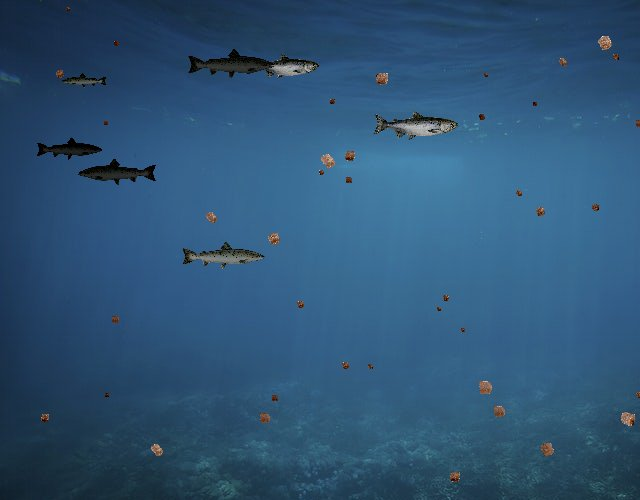Fish: (187, 47, 277, 80), (180, 240, 266, 271), (372, 110, 458, 141), (78, 158, 159, 187), (246, 54, 319, 80), (35, 136, 103, 161), (62, 73, 109, 90)
Pellet: (312, 146, 342, 176), (471, 374, 499, 402), (487, 400, 511, 424), (199, 205, 223, 229), (530, 201, 550, 221), (315, 166, 328, 179), (458, 324, 468, 334)
